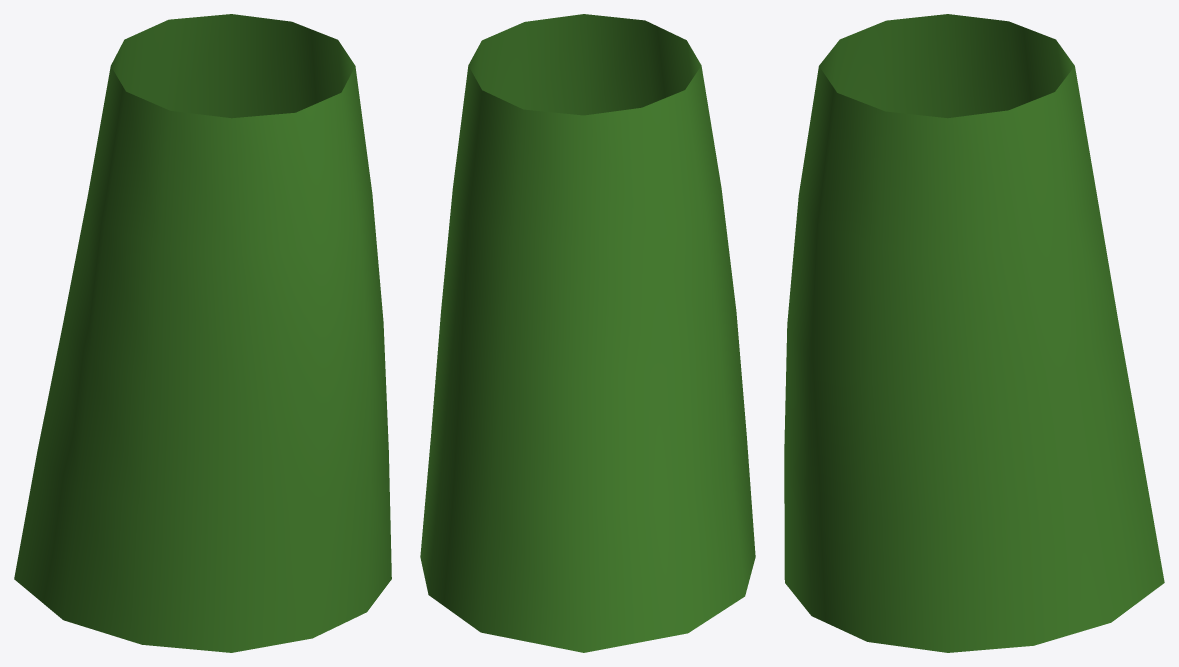
The model's file is jungle_armor_cuisse.R.glb.
3 views of the same model, side by side, from view 1: azimuth 30°, elevation 25°; view 2: azimuth 150°, elevation 25°; view 3: azimuth 270°, elevation 25° (orthographic). The views are drawn at different scales.
Visible parts, largest first — view 1: jungle_armor_cuisse.R; view 2: jungle_armor_cuisse.R; view 3: jungle_armor_cuisse.R.
Boxes of the visible parts, x1,y1,x2,y2 form: jungle_armor_cuisse.R: [14, 14, 391, 652]; jungle_armor_cuisse.R: [420, 14, 755, 652]; jungle_armor_cuisse.R: [784, 14, 1164, 652].
Bounding box in the file's own units: 0.2346 × 0.37 × 0.2467.
